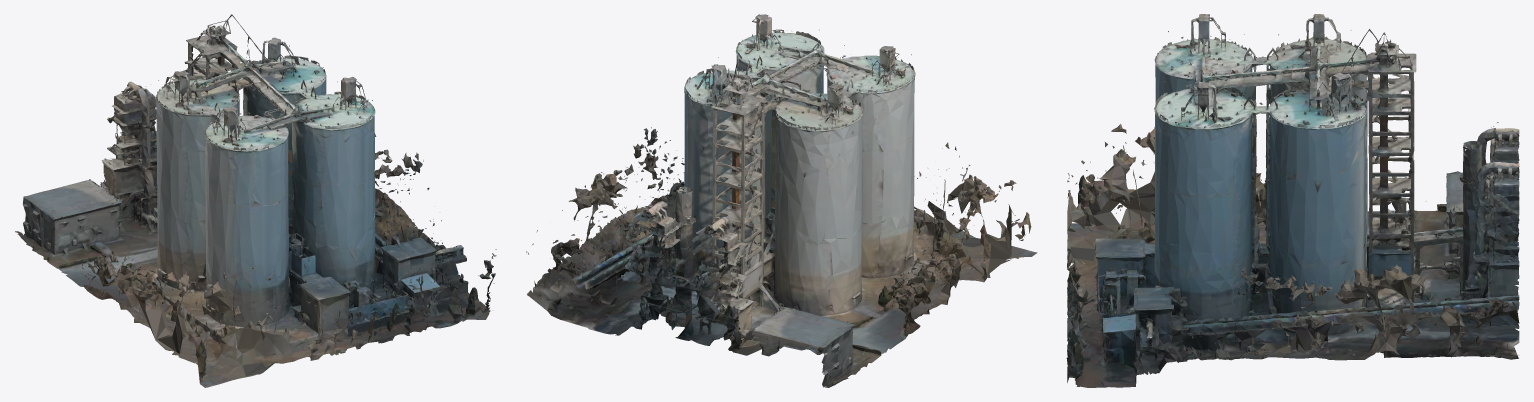
The model's file is fabrica1.glb.
3 views of the same model, side by side, from view 1: azimuth 30°, elevation 25°; view 2: azimuth 150°, elevation 25°; view 3: azimuth 270°, elevation 25° (orthographic). The views are drawn at different scales.
Parts seen in each view (by area): view 1: m.obj; view 2: m.obj; view 3: m.obj.
Part boxes in pixels (left/top/right/bottom): m.obj: left=15, top=14, right=496, bottom=387; m.obj: left=526, top=14, right=1037, bottom=387; m.obj: left=1066, top=14, right=1519, bottom=387.
Bounding box in the file's own units: 228 × 179 × 259.
1 material, 1 textured.
